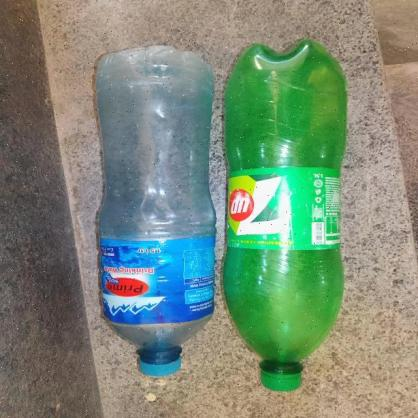bottle: (79, 41, 218, 390), (218, 36, 350, 396)
cap: (127, 348, 193, 381), (250, 359, 310, 394)
label: (225, 157, 344, 254), (89, 235, 213, 327)
